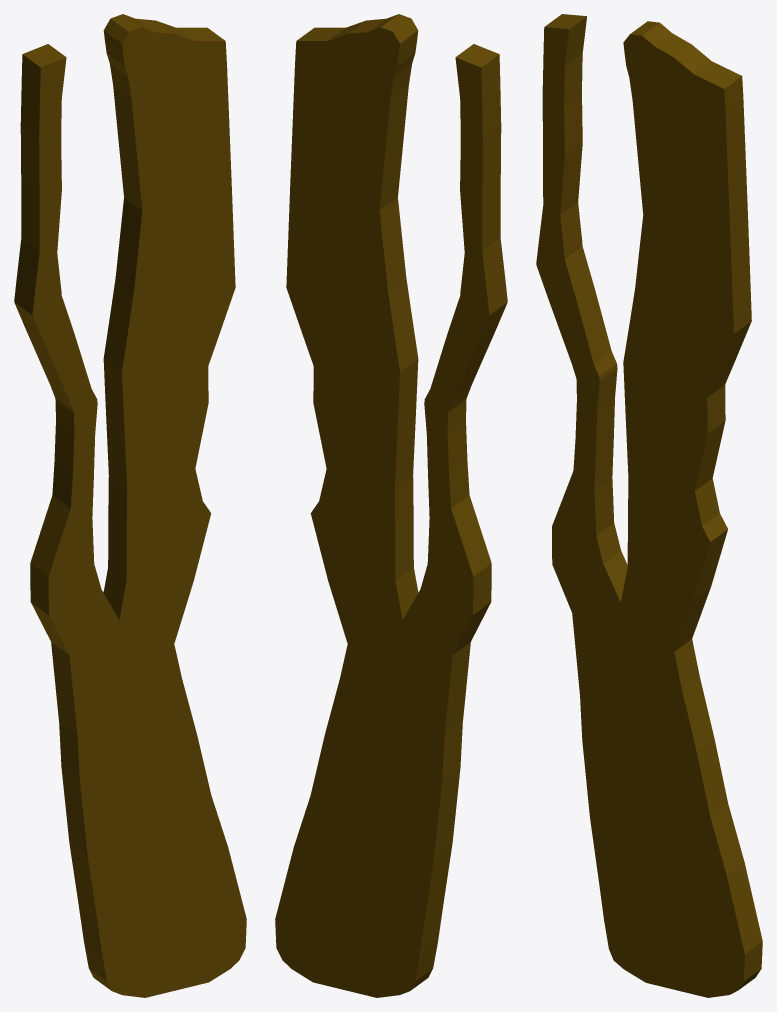
Rendered from Branch_2.fbx.
3 views of the same model, side by side, from view 1: azimuth 30°, elevation 25°; view 2: azimuth 150°, elevation 25°; view 3: azimuth 330°, elevation 25° (orthographic). The views are drawn at different scales.
Visible parts, largest first — view 1: pPlane66; view 2: pPlane66; view 3: pPlane66.
Part boxes in pixels (x1,y1,x2,y2): pPlane66: (14,14,246,997); pPlane66: (275,14,507,997); pPlane66: (536,14,762,997).
Bounding box in the file's own units: 0.2403 × 1.04 × 0.0357.
